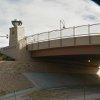Bridge: (26, 25, 97, 62)
